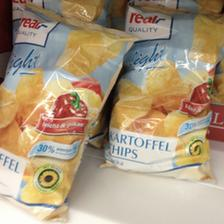Chips: (0, 4, 136, 218), (107, 6, 219, 182)
